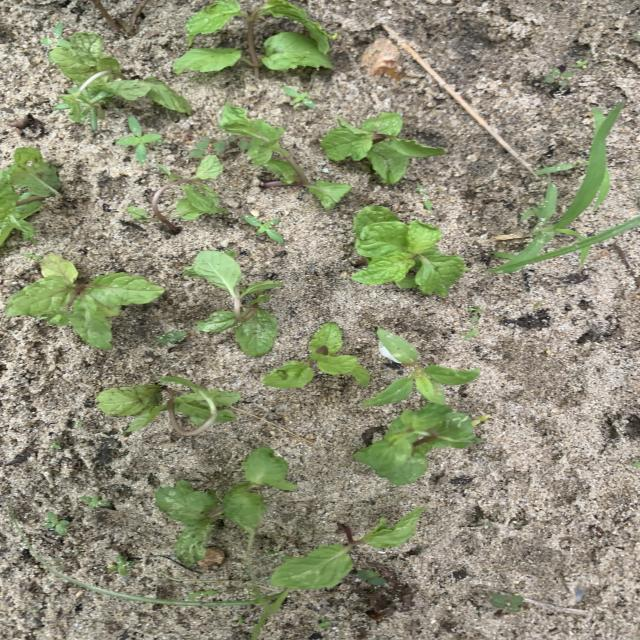crop: (355, 338, 481, 483), (156, 447, 295, 564), (6, 254, 163, 347), (222, 103, 351, 209), (270, 511, 423, 588), (50, 32, 192, 114), (176, 1, 332, 72), (183, 250, 282, 355), (352, 206, 467, 294), (362, 329, 479, 406), (322, 113, 443, 183), (97, 377, 239, 435), (137, 155, 226, 227), (264, 323, 356, 387), (1, 147, 60, 243)
weed: (487, 102, 638, 272), (117, 117, 162, 162), (250, 588, 287, 639), (78, 91, 112, 130), (244, 216, 283, 242), (190, 138, 226, 159), (40, 22, 67, 47), (542, 65, 572, 87), (283, 87, 315, 107), (44, 512, 70, 535), (107, 554, 135, 575), (491, 593, 523, 611), (356, 570, 384, 585), (79, 496, 111, 508), (157, 330, 186, 343), (187, 589, 216, 599), (420, 185, 431, 210), (467, 307, 482, 322), (571, 59, 589, 70), (464, 327, 478, 338), (49, 442, 60, 450)
